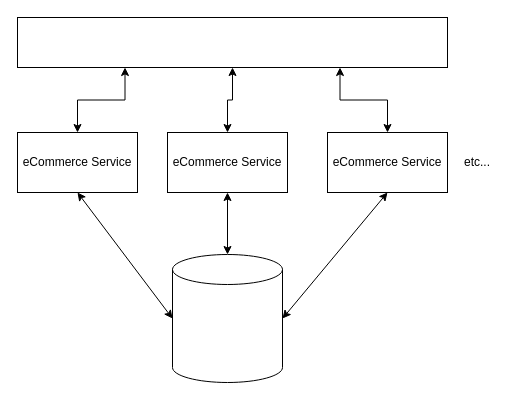
The diagram is 525 pixels wide and 400 high, and some of its shapes have lost their labels. Each missing label, with the centre of its shape:
"eCommerce Data" goes at [227,318].
"User Interface" goes at [232,42].
